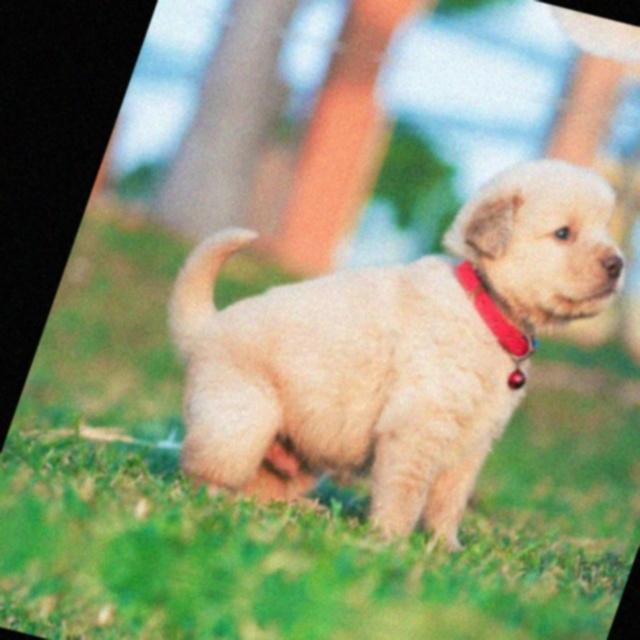dog: (90, 70, 640, 584), (263, 0, 640, 85)
